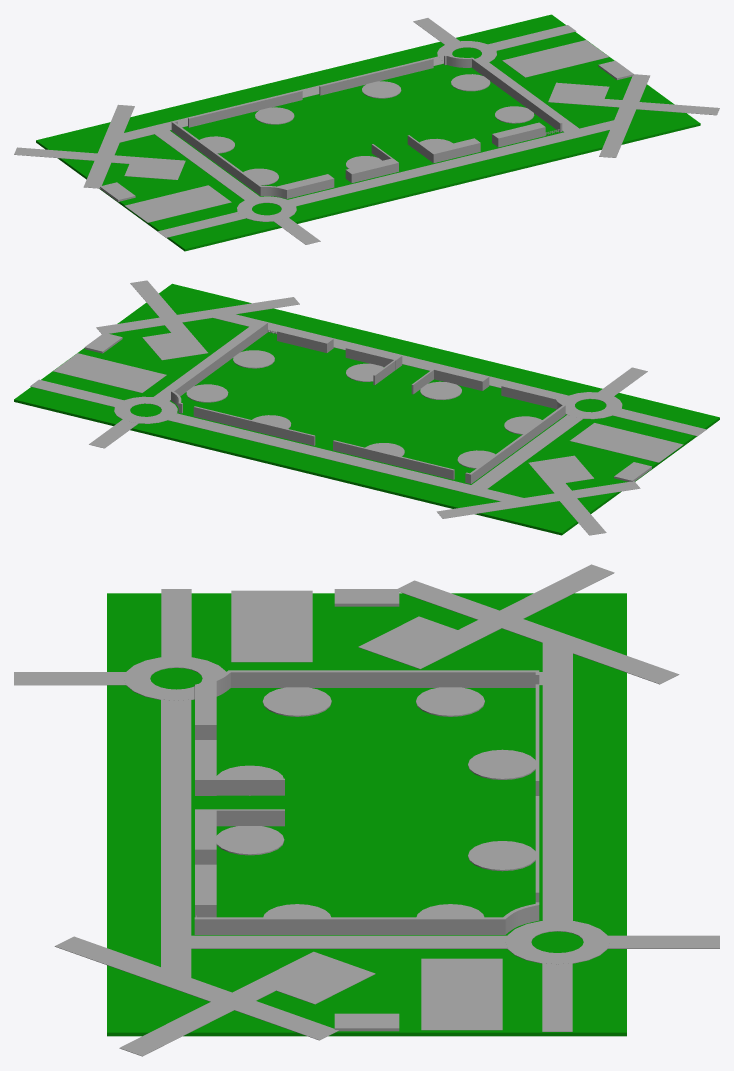
File: brocity.fbx
3 renders of one model, top to bottom at view 1: azimuth 30°, elevation 25°; view 2: azimuth 150°, elevation 25°; view 3: azimuth 270°, elevation 25°, orthographic. The views are drawn at different scales.
Parts seen in each view (by area): view 1: pCube6, pista8, quadra1, quadra2, pista12, pista2, pista5, paredeInterna3, paredeInterna4, estacionamento1, estacionamento2, pista4 (+23 smaller); view 2: pCube6, pista4, quadra2, quadra1, pista2, pista12, pista5, pista8, paredeInterna3, paredeInterna4, estacionamento2, estacionamento1 (+23 smaller); view 3: pCube6, pista8, pista4, quadra1, quadra2, paredeInterna2, paredeInterna1, pista2, pista12, pista9, estacionamento1, estacionamento2 (+21 smaller).
Part boxes in pixels (x1=…): pCube6: x1=36, y1=14, x2=700, y2=251; pista8: x1=288, y1=120, x2=622, y2=206; quadra1: x1=125, y1=185, x2=231, y2=222; quadra2: x1=502, y1=40, x2=608, y2=77; pista12: x1=599, y1=74, x2=650, y2=157; pista2: x1=83, y1=104, x2=134, y2=188; pista5: x1=149, y1=129, x2=259, y2=200; paredeInterna3: x1=319, y1=58, x2=433, y2=95; paredeInterna4: x1=188, y1=90, x2=302, y2=127; estacionamento1: x1=124, y1=156, x2=185, y2=179; estacionamento2: x1=548, y1=82, x2=609, y2=105; pista4: x1=109, y1=56, x2=443, y2=142; pCube6: x1=14, y1=283, x2=719, y2=535; pista4: x1=168, y1=413, x2=523, y2=504; quadra2: x1=53, y1=353, x2=166, y2=392; quadra1: x1=570, y1=423, x2=683, y2=462; pista2: x1=436, y1=481, x2=640, y2=518; pista12: x1=96, y1=297, x2=299, y2=333; pista5: x1=462, y1=415, x2=582, y2=495; pista8: x1=211, y1=310, x2=568, y2=401; paredeInterna3: x1=193, y1=406, x2=315, y2=445; paredeInterna4: x1=333, y1=440, x2=454, y2=479; estacionamento2: x1=142, y1=330, x2=207, y2=360; estacionamento1: x1=528, y1=455, x2=593, y2=485; pCube6: x1=107, y1=593, x2=626, y2=1036; pista8: x1=161, y1=699, x2=191, y2=979; pista4: x1=542, y1=640, x2=572, y2=920; quadra1: x1=231, y1=590, x2=312, y2=662; quadra2: x1=421, y1=958, x2=502, y2=1030; paredeInterna2: x1=194, y1=917, x2=505, y2=934; paredeInterna1: x1=228, y1=670, x2=539, y2=687; pista2: x1=398, y1=580, x2=679, y2=684; pista12: x1=54, y1=936, x2=338, y2=1040; pista9: x1=190, y1=935, x2=507, y2=948; estacionamento1: x1=358, y1=616, x2=480, y2=669; estacionamento2: x1=254, y1=951, x2=375, y2=1004.
Bounding box in the file's own units: 269 × 5.33 × 163.
